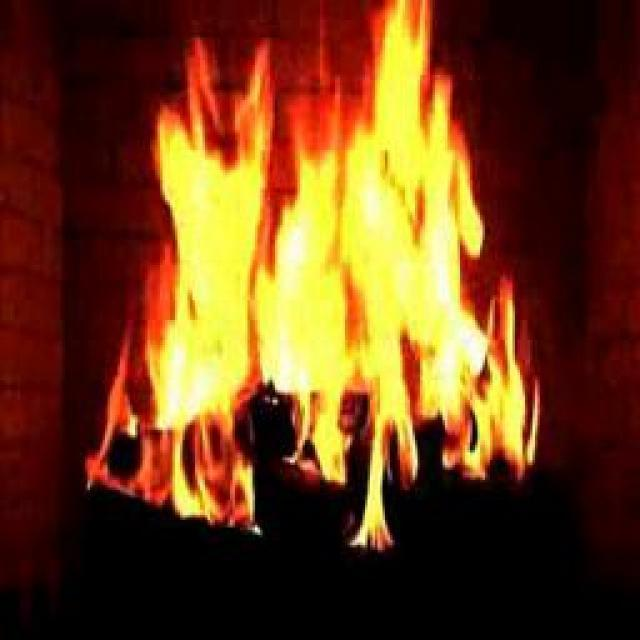Fire: (170, 55, 493, 473)
